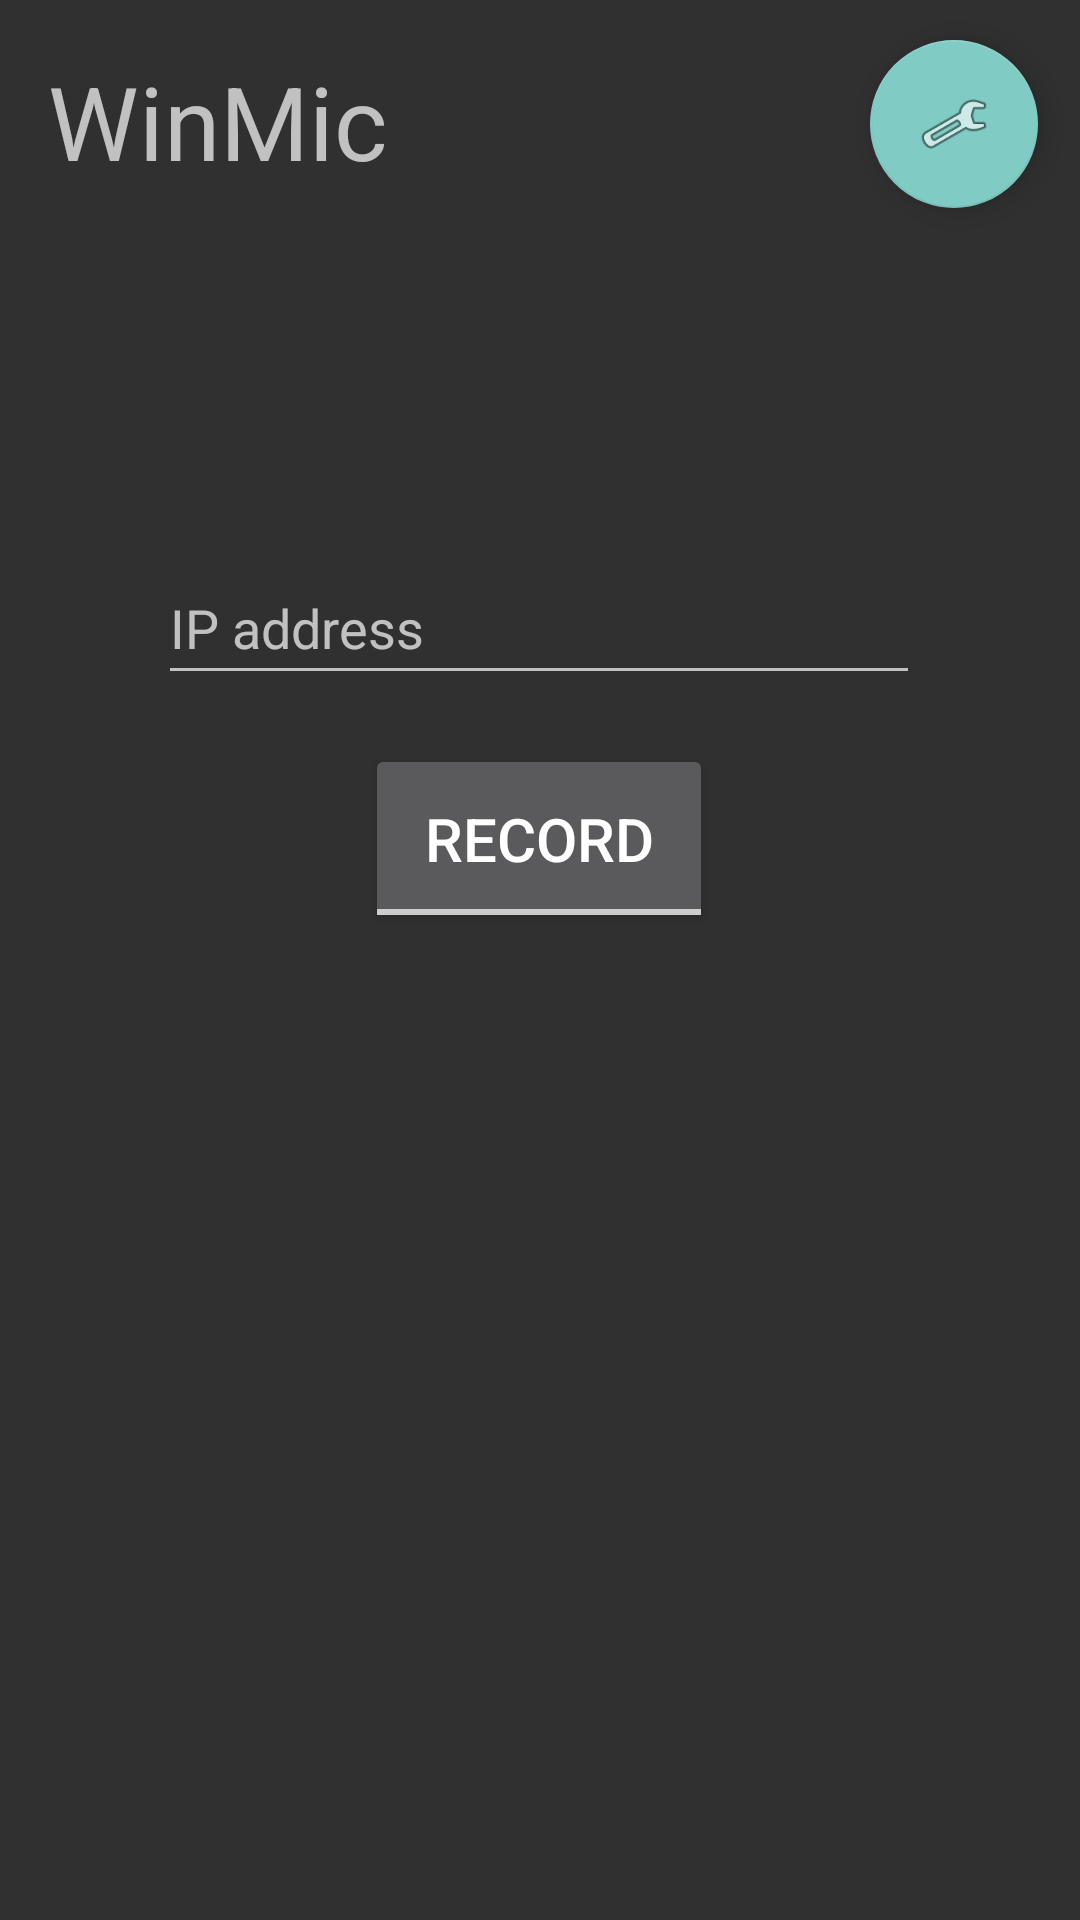

Screen size 1080 × 1920. Icon name, then its box in pixels as bbox=(x1, y1, x2, y2):
preferences: bbox=(870, 40, 1038, 208)
